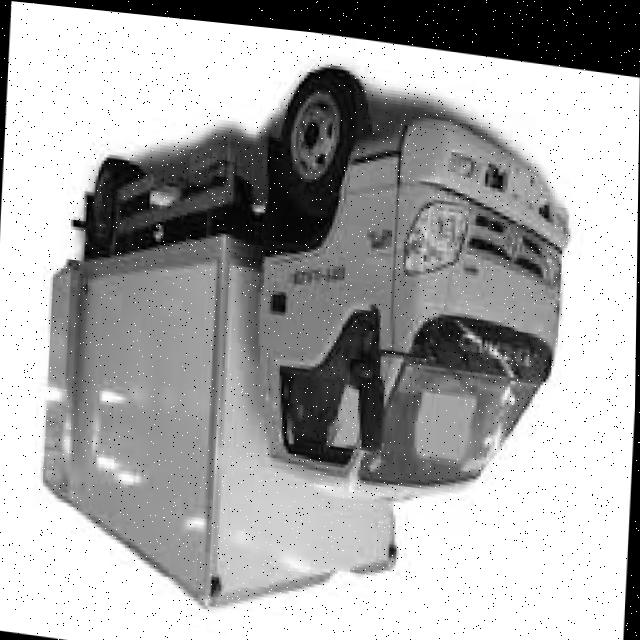truck: (219, 48, 584, 550)
